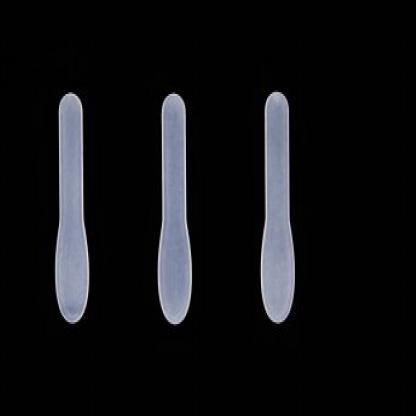Others: (154, 93, 194, 327), (51, 92, 89, 324), (254, 90, 290, 324)
